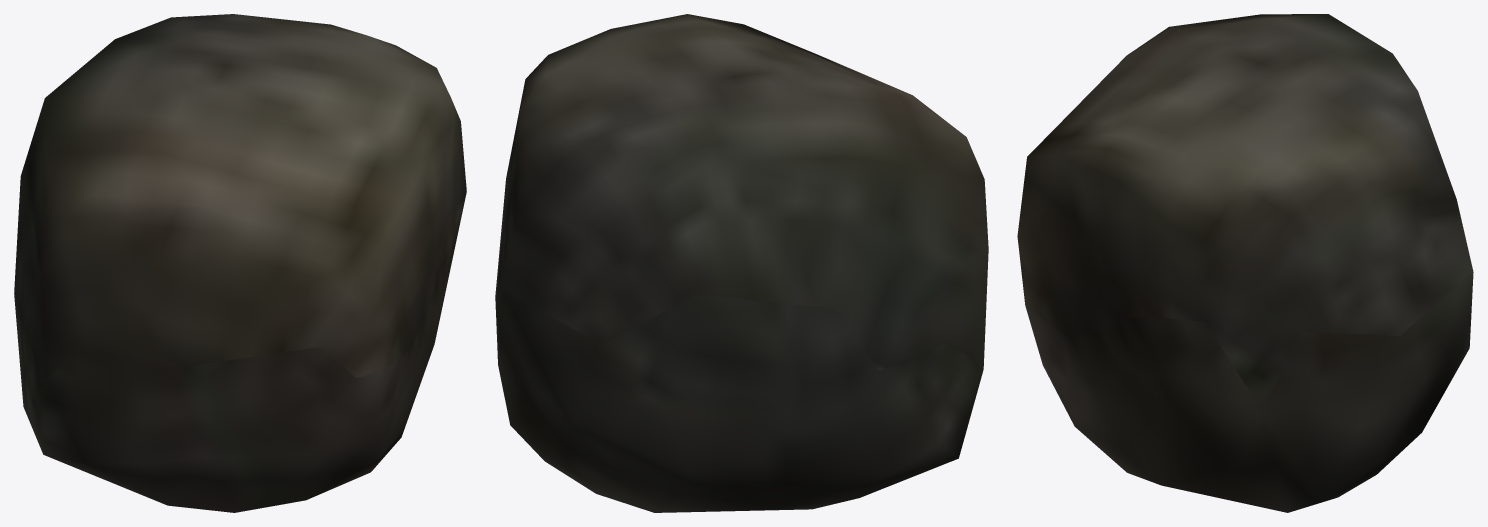
3 renders of one model, left to right at view 1: azimuth 30°, elevation 25°; view 2: azimuth 150°, elevation 25°; view 3: azimuth 270°, elevation 25°, orthographic. The views are drawn at different scales.
Visible parts, largest first — view 1: smallrock4; view 2: smallrock4; view 3: smallrock4.
Part boxes in pixels (box(x1,y1,x2,y2)): smallrock4: box(14, 14, 466, 512); smallrock4: box(495, 14, 988, 512); smallrock4: box(1017, 14, 1473, 512).
Bounding box in the file's own units: 0.8309 × 0.7306 × 0.7786.
1 material, 1 textured.
